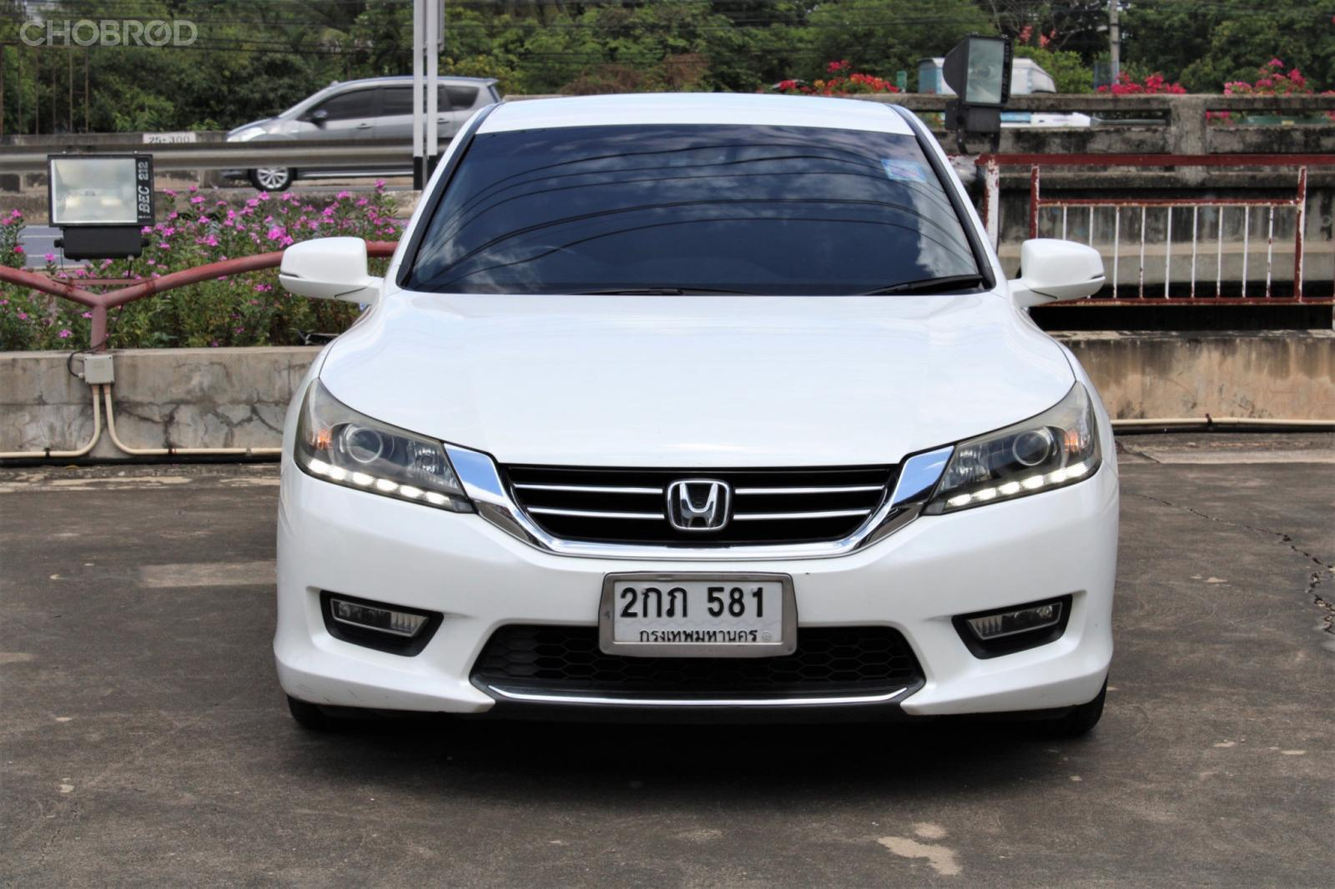license-plate: (593, 563, 803, 657)
